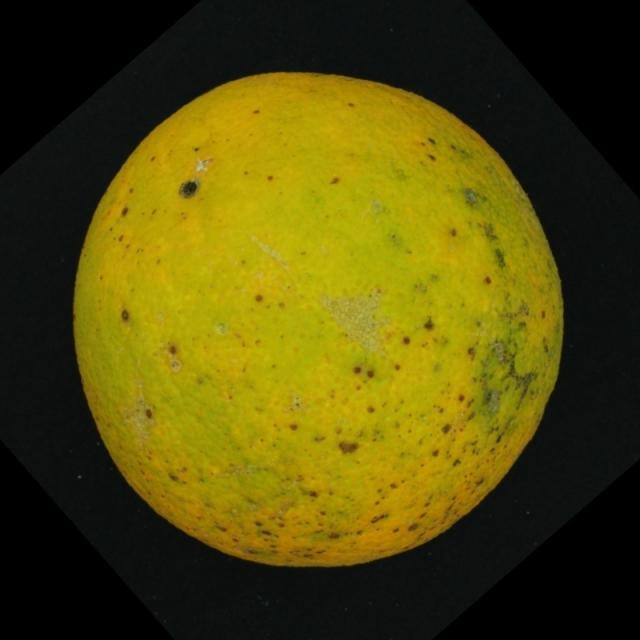grenning: (62, 58, 571, 581)
